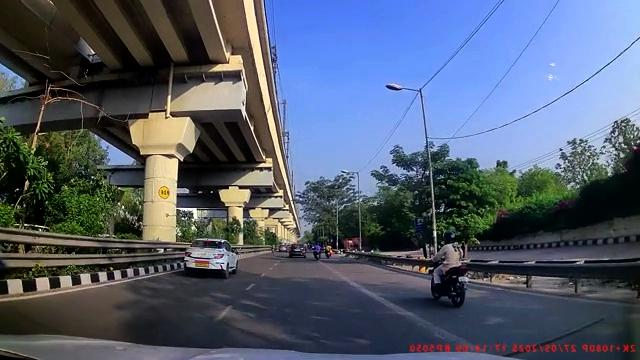motorcycle_with_helmet: (429, 230, 468, 308)
